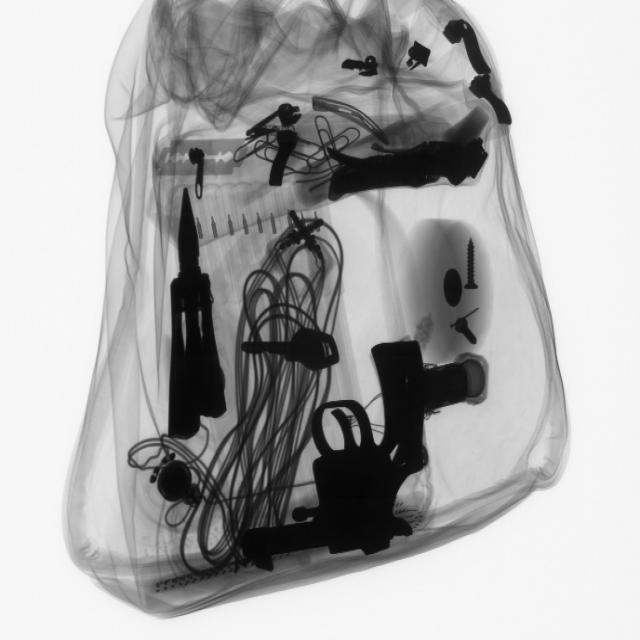BLADE: (147, 128, 251, 192)
GUN: (238, 338, 455, 567)
KNIFE: (161, 182, 220, 422)
SCREW: (449, 301, 486, 359)
